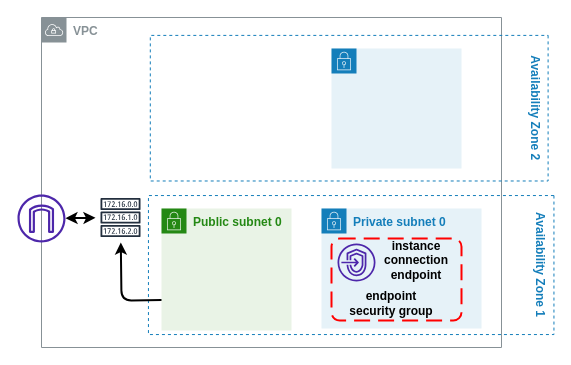
The diagram is 571 pixels wide and 365 high, and some of its shapes have lost their labels. The centre of each missing label's shape, as x and y in pixels:
Private subnet 1: the point at 396,108
Route table: the point at 120,217
